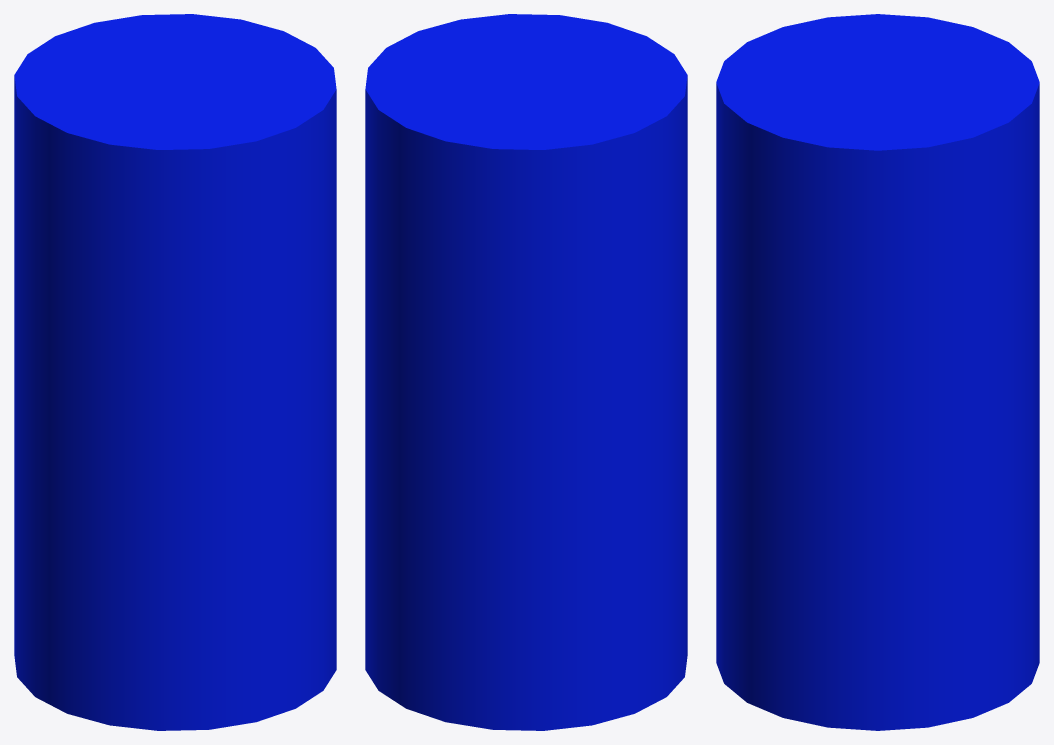
File: Cyl.glb
3 renders of one model, left to right at view 1: azimuth 30°, elevation 25°; view 2: azimuth 150°, elevation 25°; view 3: azimuth 270°, elevation 25°, orthographic.
Parts seen in each view (by area): view 1: pCylinder1; view 2: pCylinder1; view 3: pCylinder1.
Boxes of the visible parts, x1,y1,x2,y2 form: pCylinder1: [14, 14, 336, 730]; pCylinder1: [365, 14, 687, 730]; pCylinder1: [716, 14, 1039, 730].
Bounding box in the file's own units: 0.0298 × 0.0589 × 0.0298.
